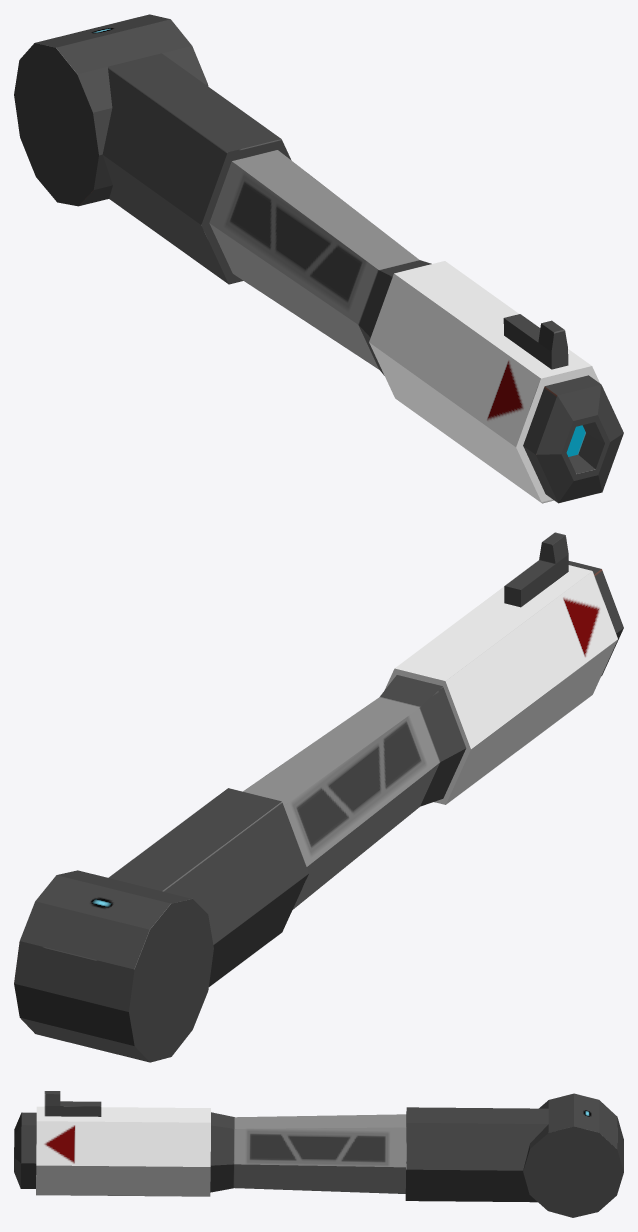
The model's file is Cannon barrel.fbx.
3 views of the same model, one above another, from view 1: azimuth 30°, elevation 25°; view 2: azimuth 150°, elevation 25°; view 3: azimuth 270°, elevation 25° (orthographic). The views are drawn at different scales.
Parts seen in each view (by area): view 1: Cannon tube; view 2: Cannon tube; view 3: Cannon tube.
Boxes of the visible parts, box(x1,y1,x2,y2) form: Cannon tube: box(14, 14, 623, 503); Cannon tube: box(14, 532, 623, 1062); Cannon tube: box(14, 1091, 623, 1217).
Size of the model in its own units: 55.68 by 84.53 by 429.
2 materials, 1 textured.
